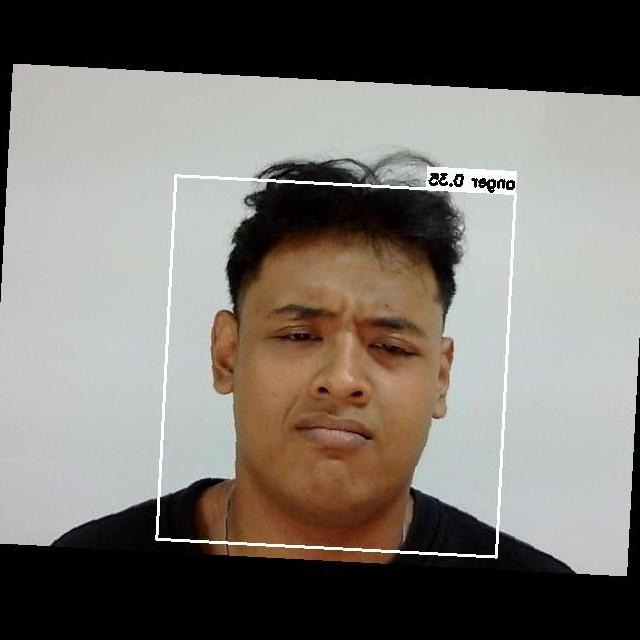Disgust: (246, 274, 435, 475)
